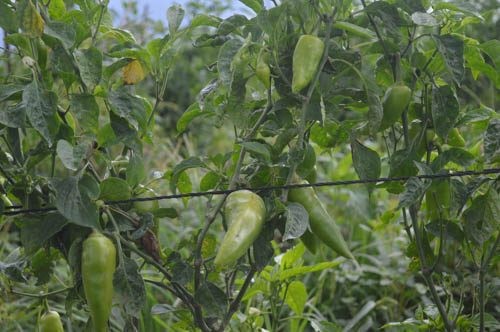ChiliPepper: (290, 180, 354, 254), (214, 189, 269, 261), (80, 236, 116, 328), (292, 36, 324, 95), (375, 86, 410, 135)
